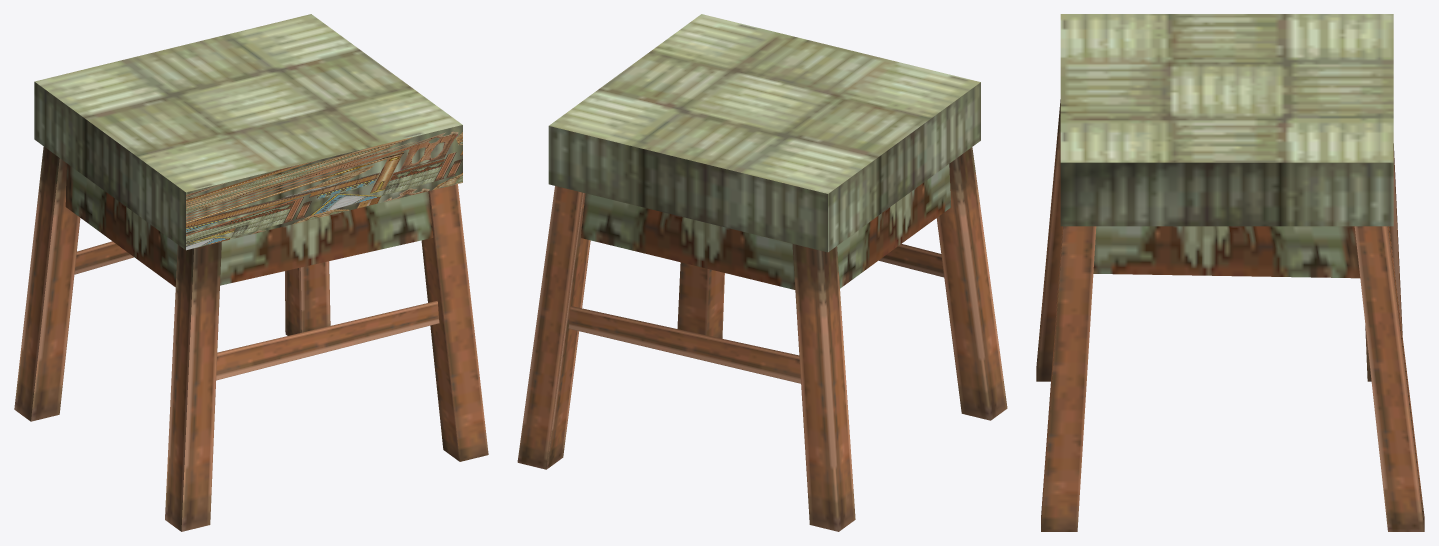
3 views of the same model, side by side, from view 1: azimuth 30°, elevation 25°; view 2: azimuth 150°, elevation 25°; view 3: azimuth 270°, elevation 25° (orthographic). The views are drawn at different scales.
Visible parts, largest first — view 1: geom_node_0; view 2: geom_node_0; view 3: geom_node_0.
Part boxes in pixels (x1,y1,x2,y2): geom_node_0: [14, 14, 488, 531]; geom_node_0: [517, 14, 1007, 531]; geom_node_0: [1036, 14, 1424, 531].
Size of the model in its own units: 0.735 by 0.7444 by 0.7265.
1 material, 1 textured.
